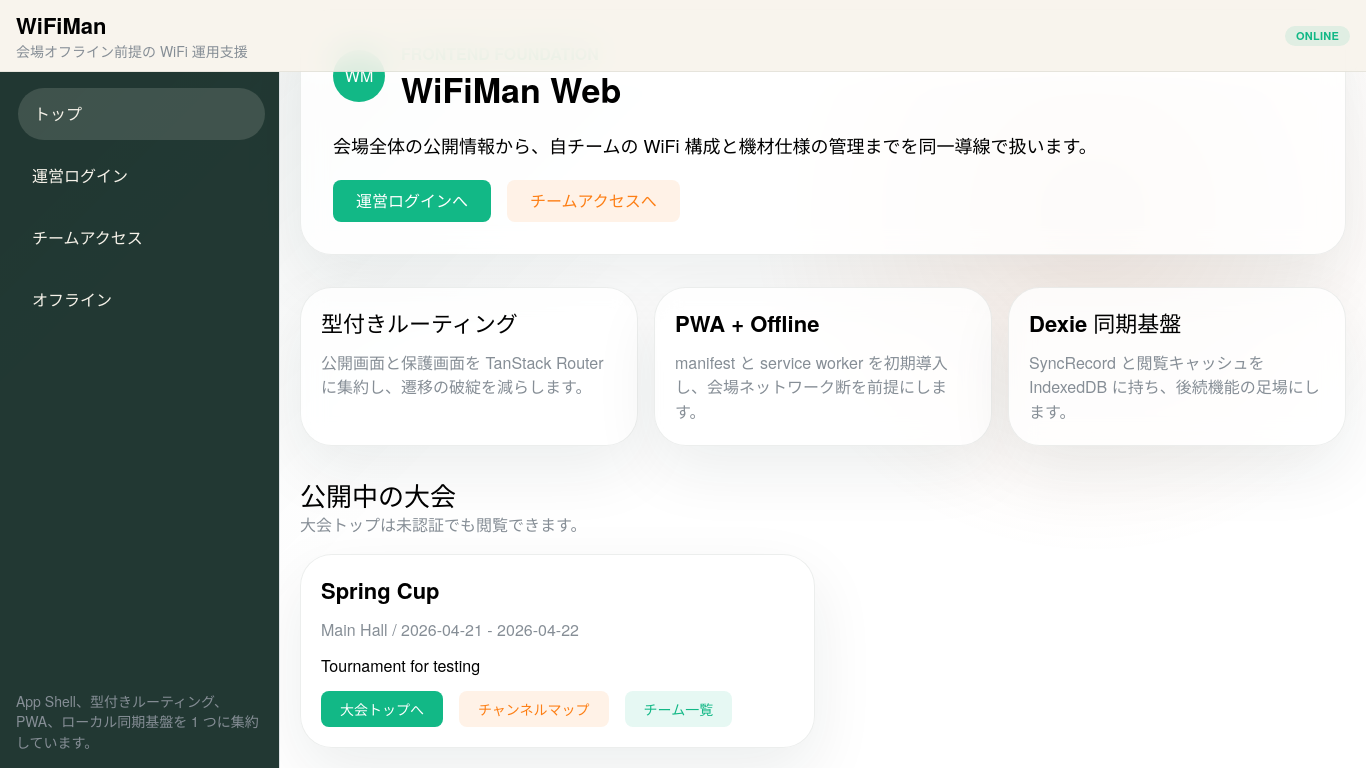
Scenario: team management routes › ホームの大会カードからチャンネルマップへ進むと未認証では login に遷移する
(page scrolled)
expect the heading "公開中の大会" is shown: met, box x1=300 y1=477 x2=456 y2=514
expect the heading "Spring Cup" is shown: met, box x1=321 y1=574 x2=440 y2=606
Click the link "チャンネルマップ" at (534, 709), box x1=459 y1=691 x2=609 y2=727
(page scrolled)
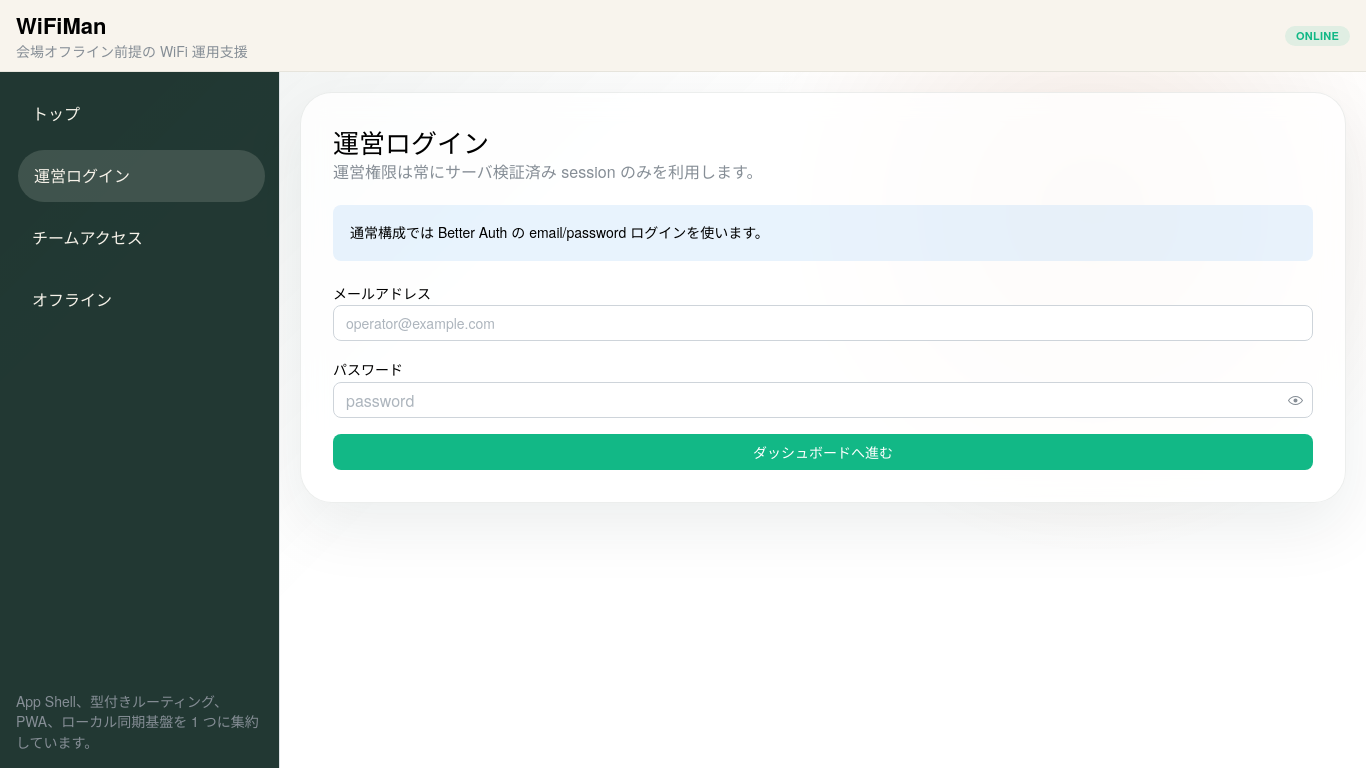
expect the heading "運営ログイン" is shown: met, box x1=333 y1=124 x2=489 y2=161
